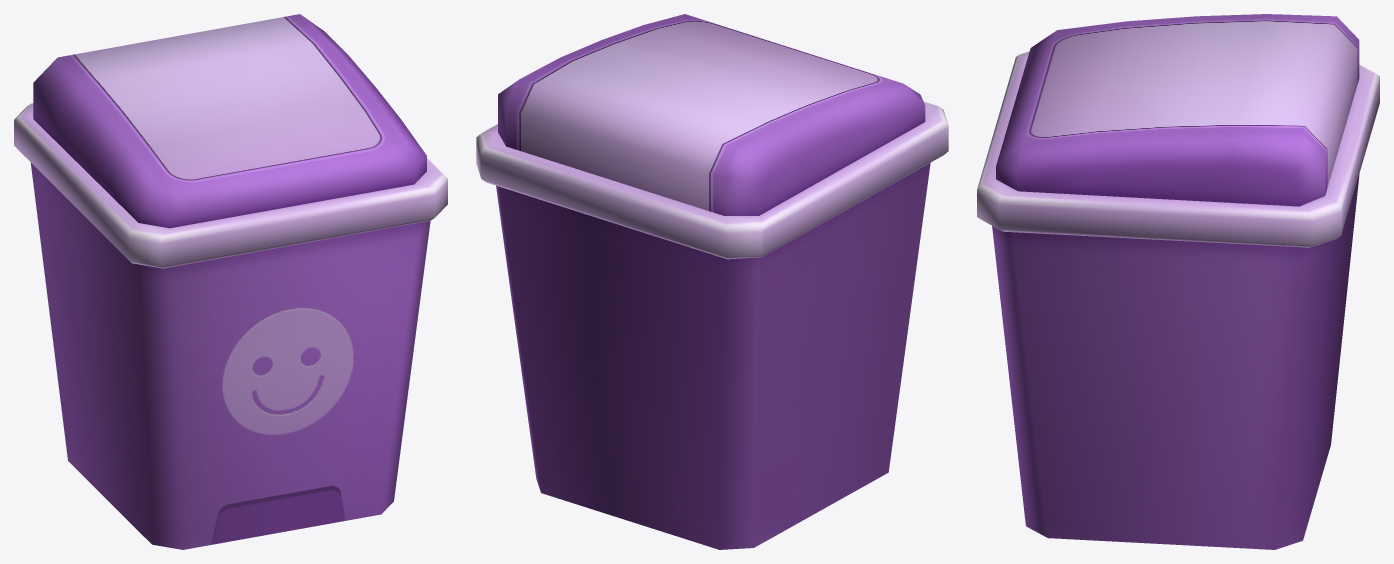
The model's file is model_play_room_trash_can.fbx.
The picture shows the model from 3 angles, left to right: view 1: azimuth 30°, elevation 25°; view 2: azimuth 150°, elevation 25°; view 3: azimuth 270°, elevation 25°; orthographic projection. The views are drawn at different scales.
Parts seen in each view (by area): view 1: model_play_room_trash_can; view 2: model_play_room_trash_can; view 3: model_play_room_trash_can.
Boxes of the visible parts, x1,y1,x2,y2 form: model_play_room_trash_can: (14,14,447,549); model_play_room_trash_can: (476,14,948,549); model_play_room_trash_can: (977,14,1379,549).
Bounding box in the file's own units: 95.25 × 109 × 95.25.
Materials: 1 (1 with a texture image).
